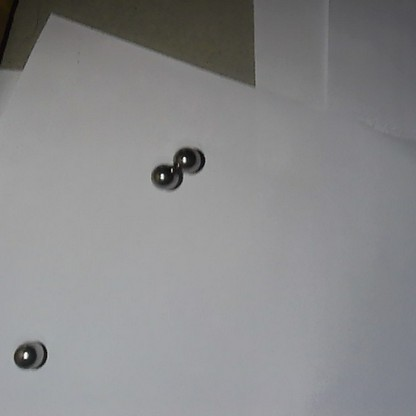ironball: (10, 336, 49, 376), (170, 140, 203, 175), (149, 160, 182, 194)
